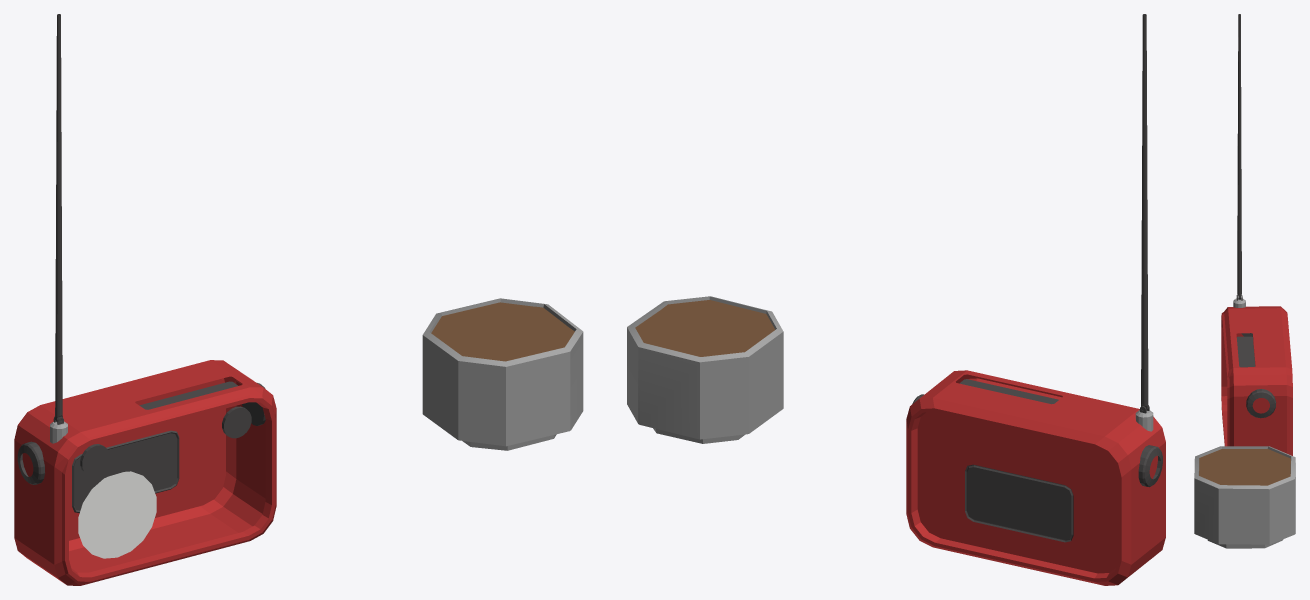
Rendered from Radio.fbx.
3 renders of one model, left to right at view 1: azimuth 30°, elevation 25°; view 2: azimuth 150°, elevation 25°; view 3: azimuth 270°, elevation 25°, orthographic. The views are drawn at different scales.
Parts seen in each view (by area): view 1: Radio, Bush; view 2: Radio, Bush; view 3: Radio, Bush.
Boxes of the visible parts, x1,y1,x2,y2 form: Radio: (14, 14, 276, 585); Bush: (422, 298, 583, 450); Radio: (906, 14, 1165, 585); Bush: (627, 296, 783, 443); Radio: (1221, 14, 1292, 455); Bush: (1194, 446, 1295, 548).
Bounding box in the file's own units: 80.32 × 79.64 × 18.39.
